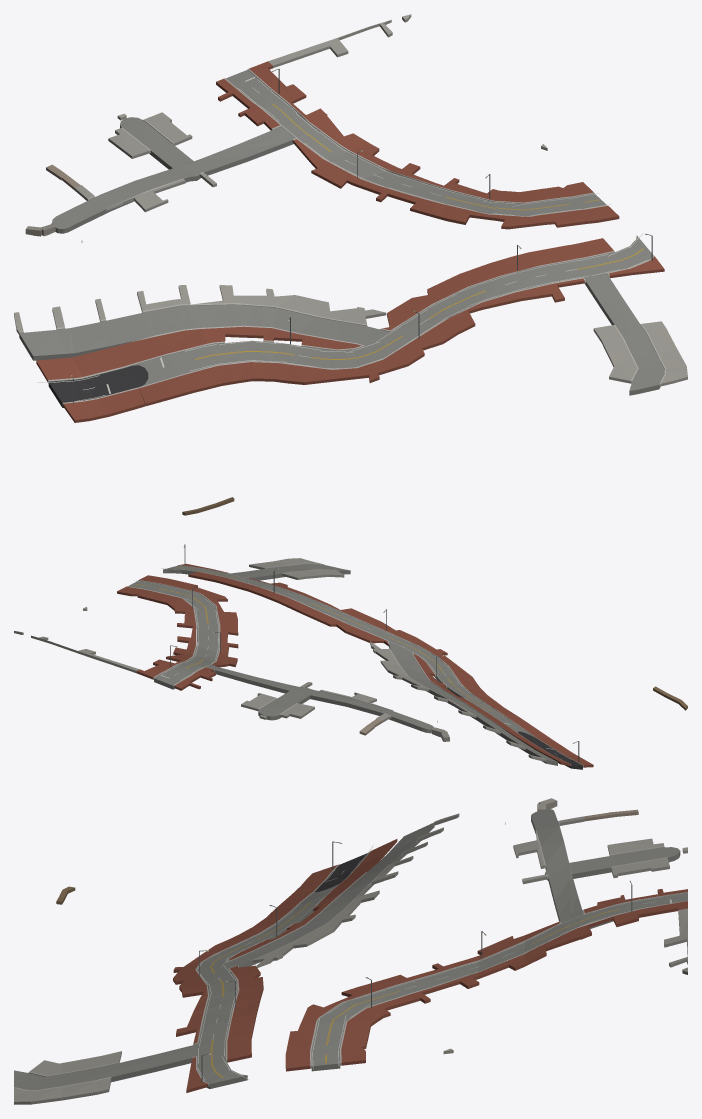
The picture shows the model from 3 angles, top to bottom: view 1: azimuth 30°, elevation 25°; view 2: azimuth 150°, elevation 25°; view 3: azimuth 270°, elevation 25°; orthographic projection. The views are drawn at different scales.
Size of the model in its own units: 152 by 46.28 by 146.
